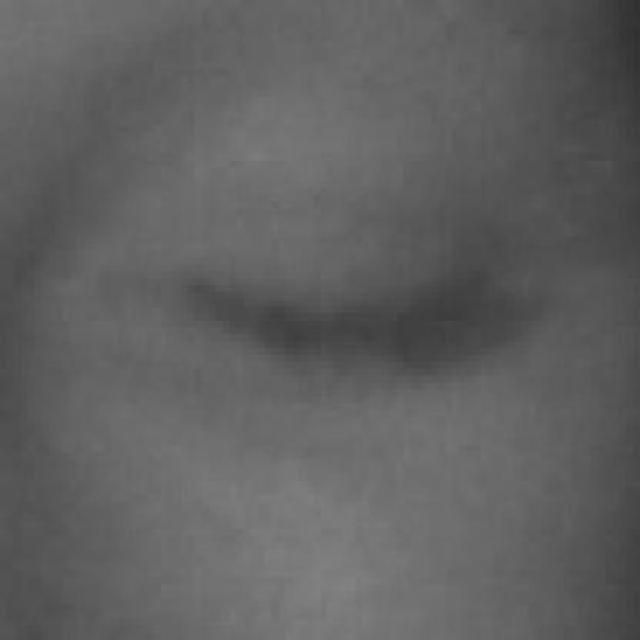drowsy: (189, 139, 529, 479)
